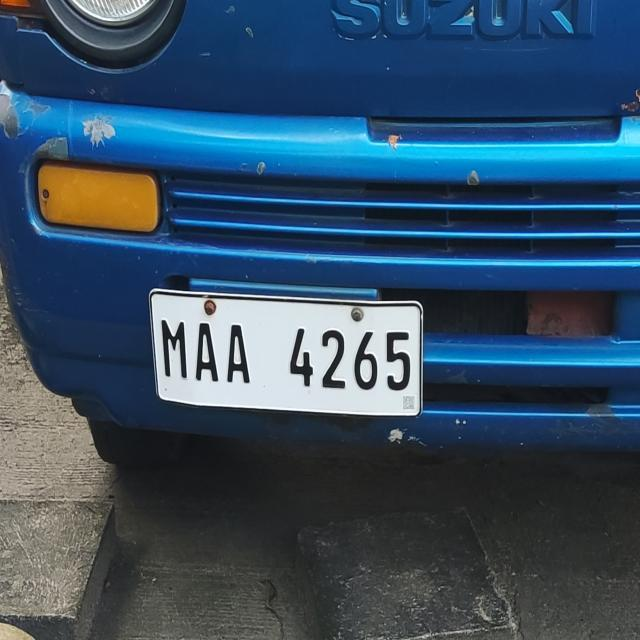LicensePlate: (141, 283, 430, 422)
